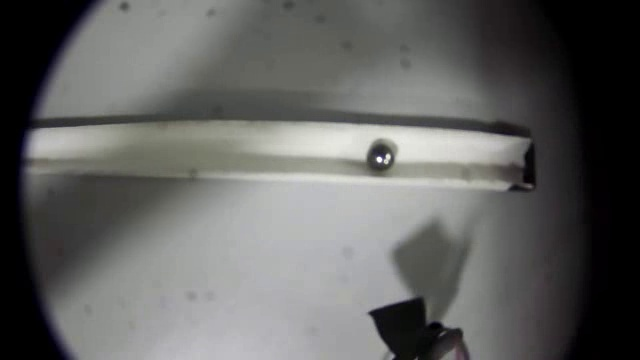gangzhu: (365, 138, 399, 176)
